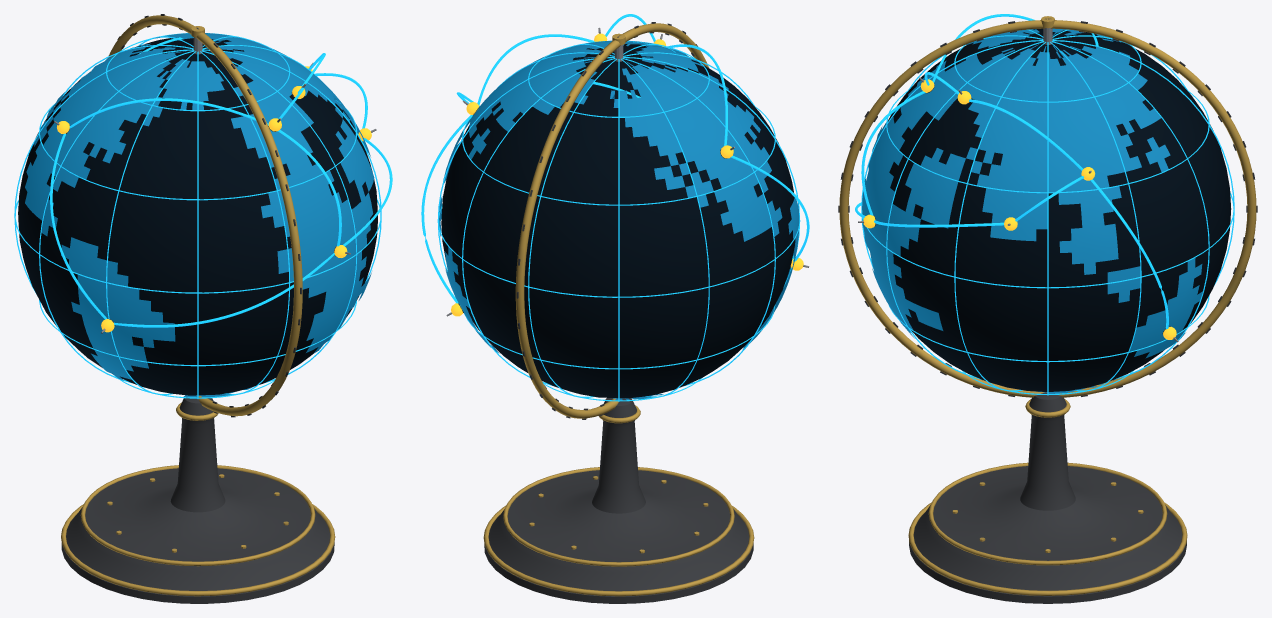
File: internet_globe.glb
The picture shows the model from 3 angles, left to right: view 1: azimuth 30°, elevation 25°; view 2: azimuth 150°, elevation 25°; view 3: azimuth 270°, elevation 25°; orthographic projection. The views are drawn at different scales.
Visible parts, largest first — view 1: globeBody, continents, stand; view 2: globeBody, stand, continents; view 3: globeBody, stand, continents.
Boxes of the visible parts, x1,y1,x2,y2 form: globeBody: [14, 33, 392, 398]; continents: [25, 33, 374, 397]; stand: [61, 14, 335, 603]; globeBody: [421, 14, 809, 401]; stand: [483, 22, 754, 603]; continents: [439, 40, 799, 400]; globeBody: [855, 14, 1234, 395]; stand: [838, 16, 1257, 603]; continents: [862, 28, 1202, 393].
Size of the model in its own units: 1.67 by 2.51 by 1.81.
8 materials, 1 textured.
